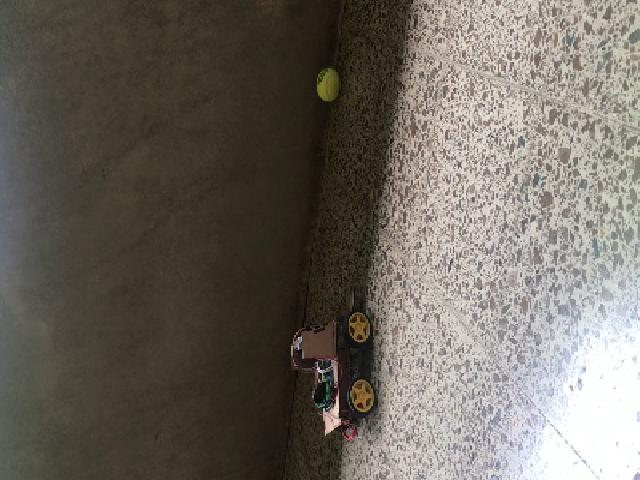Ball: (315, 67, 339, 101)
Robot: (291, 284, 378, 439)
